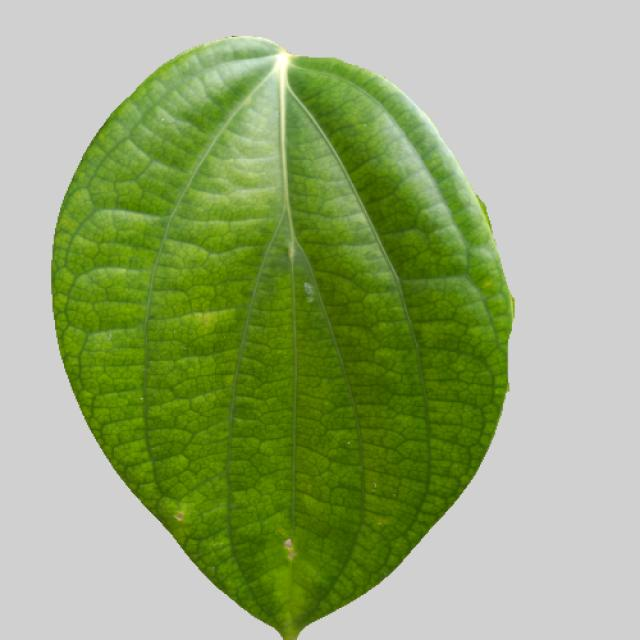healthy: (40, 29, 519, 640)
